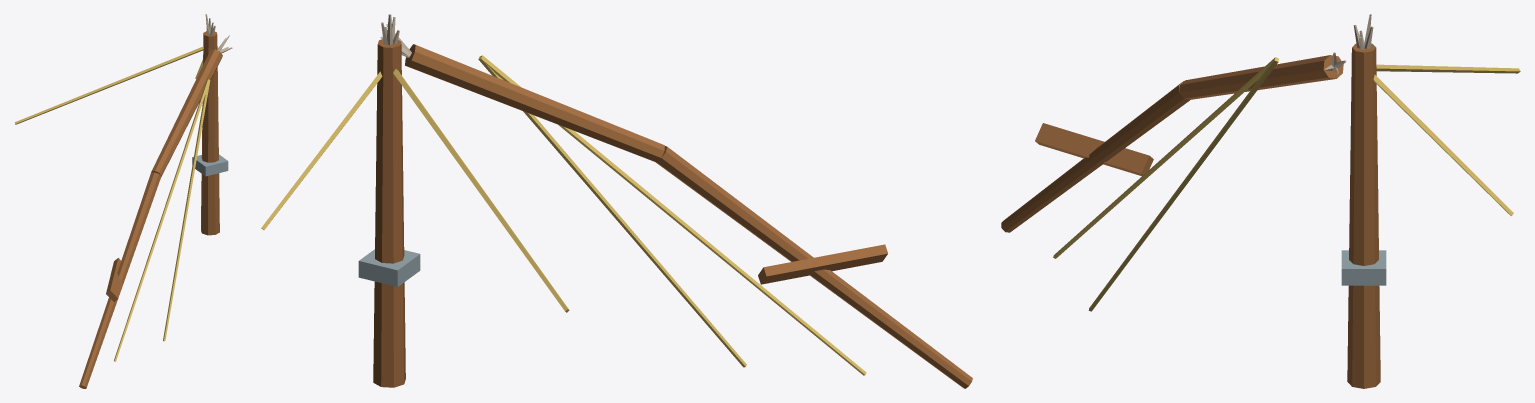
File: ship_mast_broken.glb
3 renders of one model, left to right at view 1: azimuth 30°, elevation 25°; view 2: azimuth 150°, elevation 25°; view 3: azimuth 270°, elevation 25°, orthographic. The views are drawn at different scales.
Visible parts, largest first — view 1: Mast_Spar.001, Mast_Fallen_Tip, Mast_Fallen, Mast_Shroud_Loose_1, Mast_Shroud_Loose_2, Mast_Shroud_1.001, Mast_Collar.001, Mast_Fallen_Crosstree; view 2: Mast_Spar.001, Mast_Fallen_Tip, Mast_Fallen, Mast_Shroud_Loose_1, Mast_Fallen_Crosstree, Mast_Shroud_Loose_2, Mast_Shroud_1.001, Mast_Collar.001, Mast_Shroud_2.001; view 3: Mast_Spar.001, Mast_Fallen_Tip, Mast_Fallen, Mast_Fallen_Crosstree, Mast_Shroud_Loose_2, Mast_Shroud_Loose_1, Mast_Collar.001, Mast_Shroud_2.001, Mast_Shroud_1.001.
Boxes of the visible parts, x1,y1,x2,y2 form: Mast_Spar.001: (201,31,219,235); Mast_Fallen_Tip: (79,172,161,388); Mast_Fallen: (151,49,222,176); Mast_Shroud_Loose_1: (114,79,210,361); Mast_Shroud_Loose_2: (163,79,209,341); Mast_Shroud_1.001: (14,46,203,124); Mast_Collar.001: (192,154,228,176); Mast_Fallen_Crosstree: (106,258,122,301); Mast_Spar.001: (373,39,405,387); Mast_Fallen_Tip: (655,146,972,388); Mast_Fallen: (405,44,664,162); Mast_Shroud_Loose_1: (480,55,866,375); Mast_Fallen_Crosstree: (758,244,887,284); Mast_Shroud_Loose_2: (478,56,746,367); Mast_Shroud_1.001: (393,69,569,312); Mast_Collar.001: (358,249,420,286); Mast_Shroud_2.001: (261,71,382,229); Mast_Spar.001: (1347,43,1380,388); Mast_Fallen_Tip: (1001,81,1190,232); Mast_Fallen: (1179,55,1343,99); Mast_Fallen_Crosstree: (1035,123,1153,176); Mast_Shroud_Loose_2: (1088,57,1278,311); Mast_Shroud_Loose_1: (1053,57,1278,258); Mast_Collar.001: (1341,250,1386,285); Mast_Shroud_2.001: (1373,74,1513,215); Mast_Shroud_1.001: (1376,64,1520,73).
Size of the model in its own units: 5.15 by 4.43 by 5.12.
